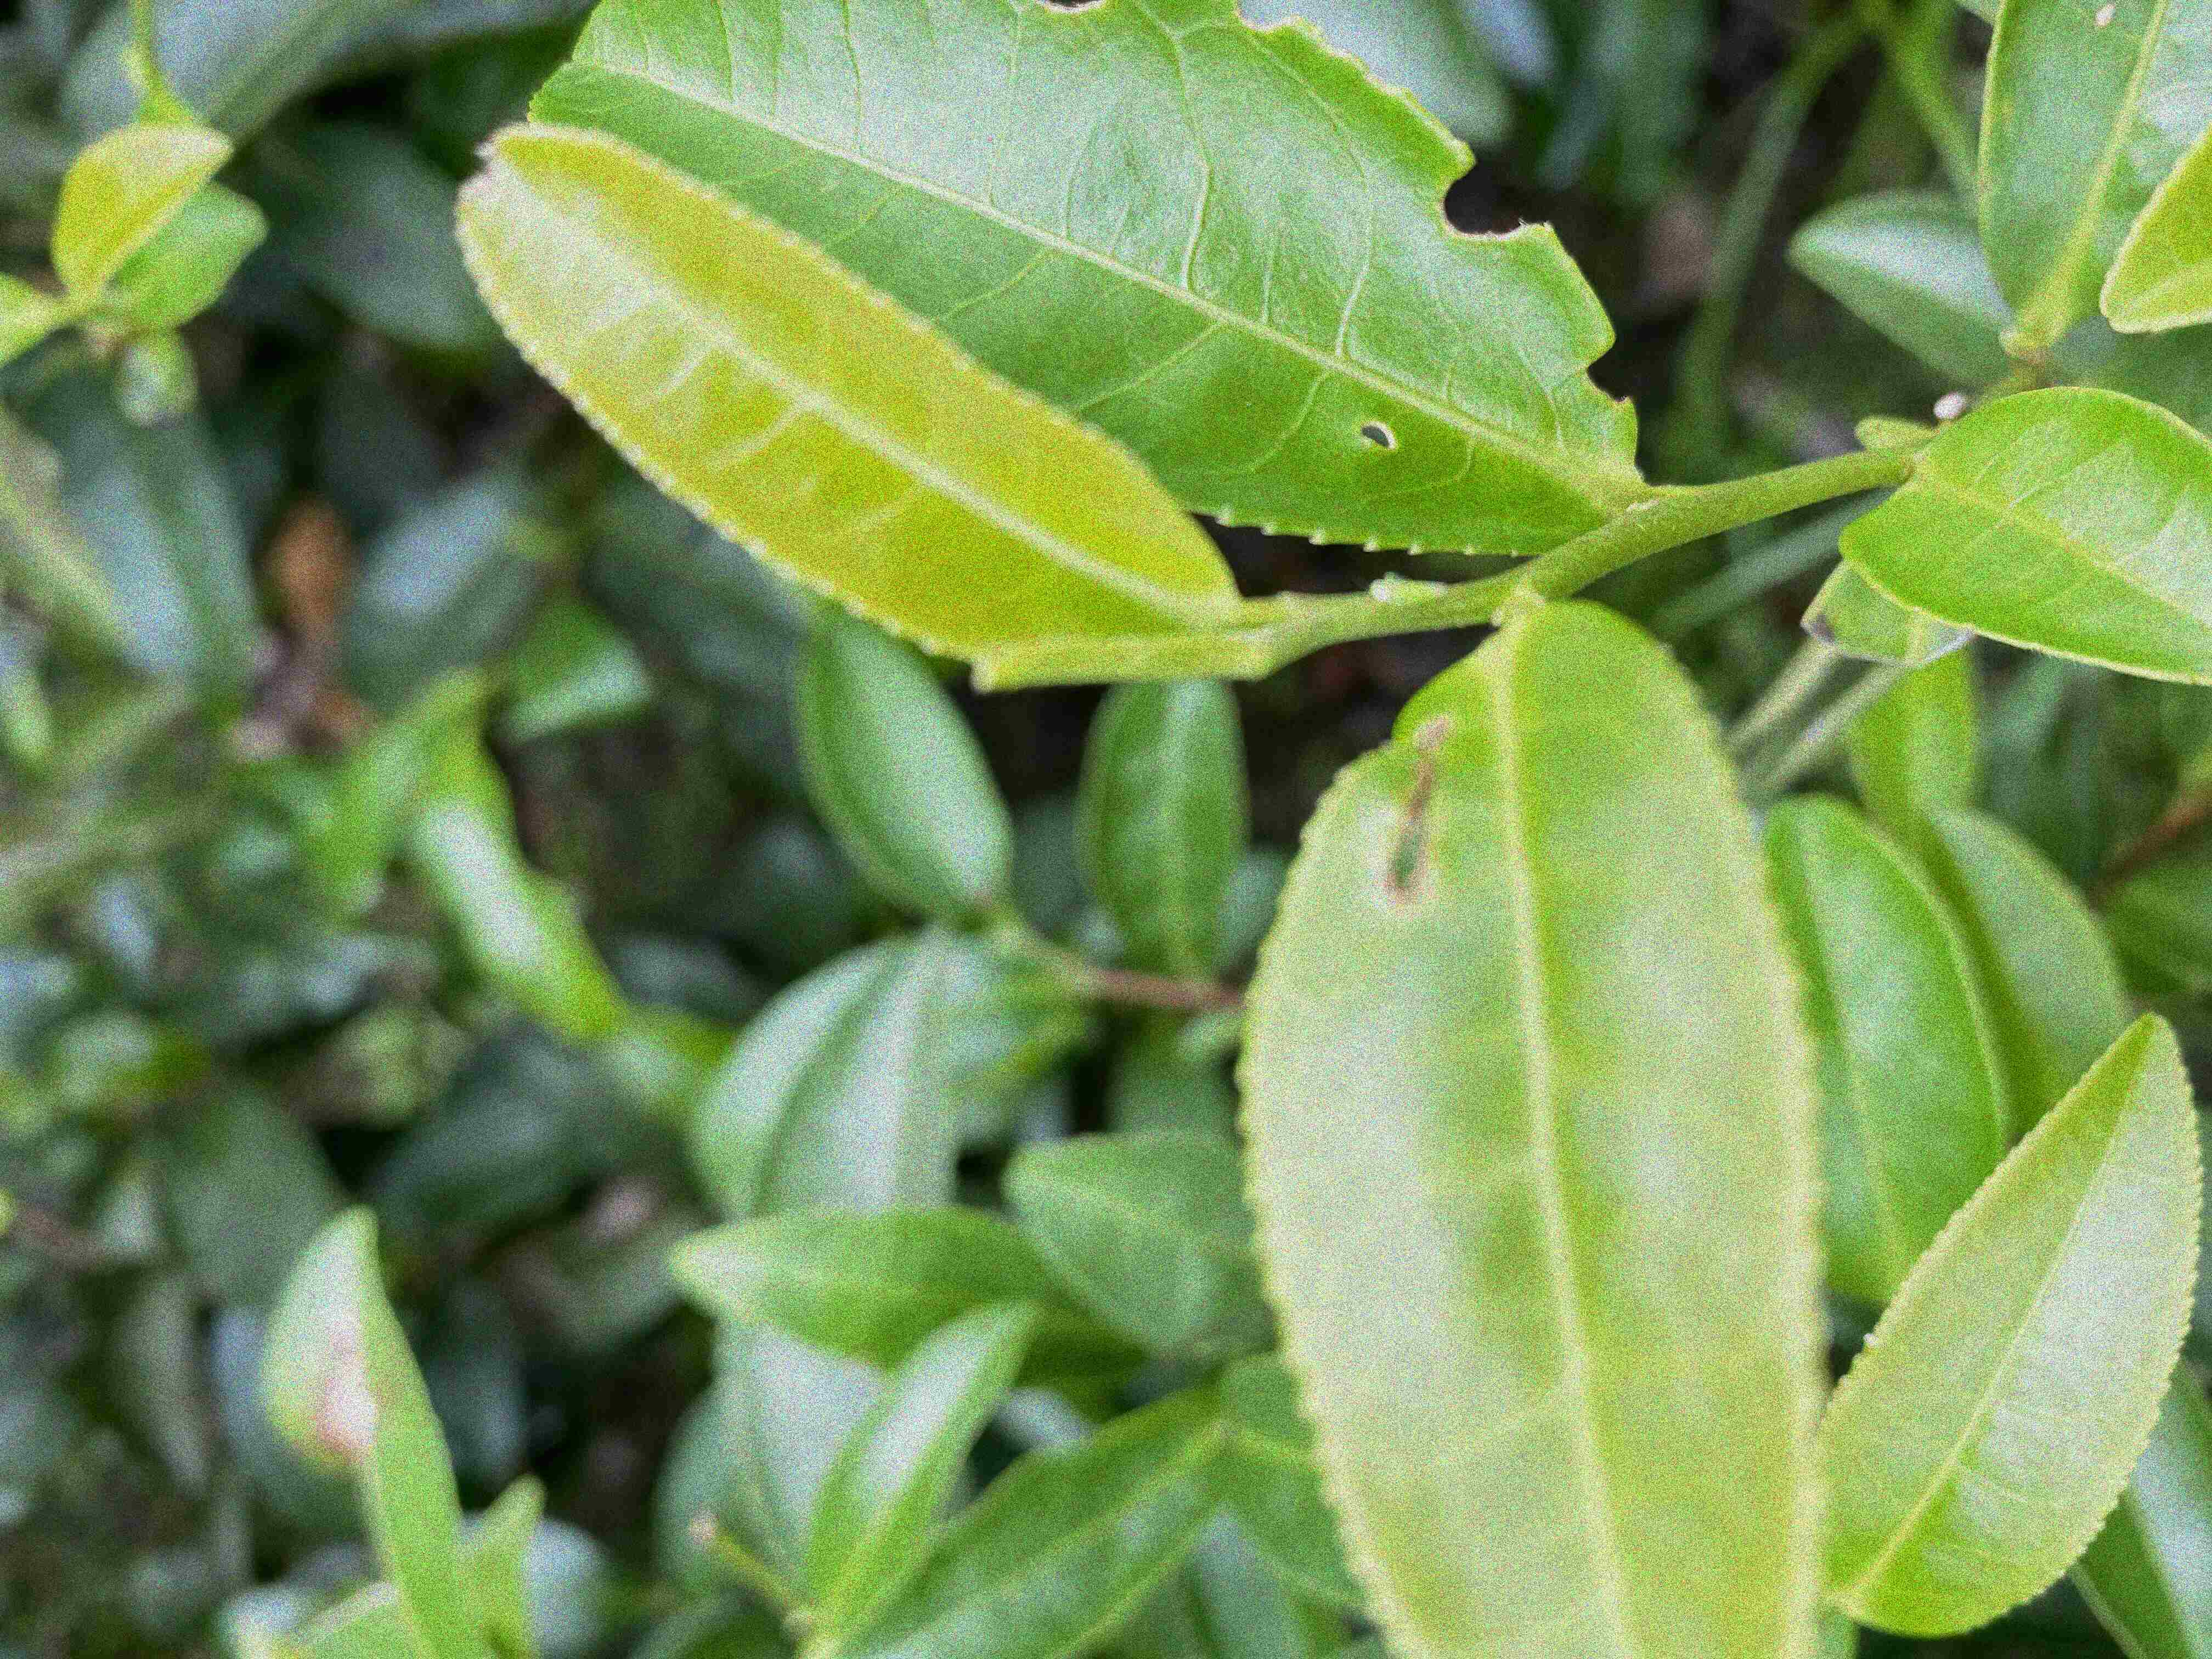chihuo_high: (529, 0, 1644, 552)
healthy: (1818, 1012, 2207, 1636), (1843, 389, 2210, 687)
tanju_low: (1231, 598, 1834, 1654), (456, 127, 1251, 660)
